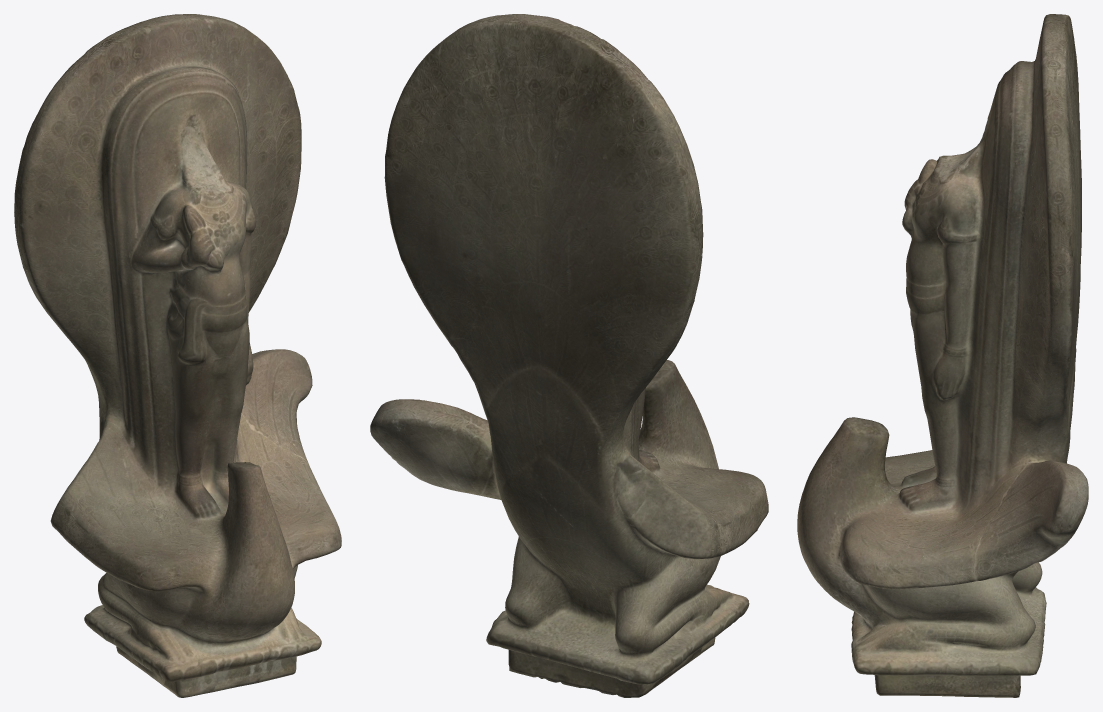
Rendered from 16_Skanda_final.glb.
3 renders of one model, left to right at view 1: azimuth 30°, elevation 25°; view 2: azimuth 150°, elevation 25°; view 3: azimuth 270°, elevation 25°, orthographic. The views are drawn at different scales.
Size of the model in its own units: 0.4589 by 0.9138 by 0.3771.
Materials: 1 (1 with a texture image).
